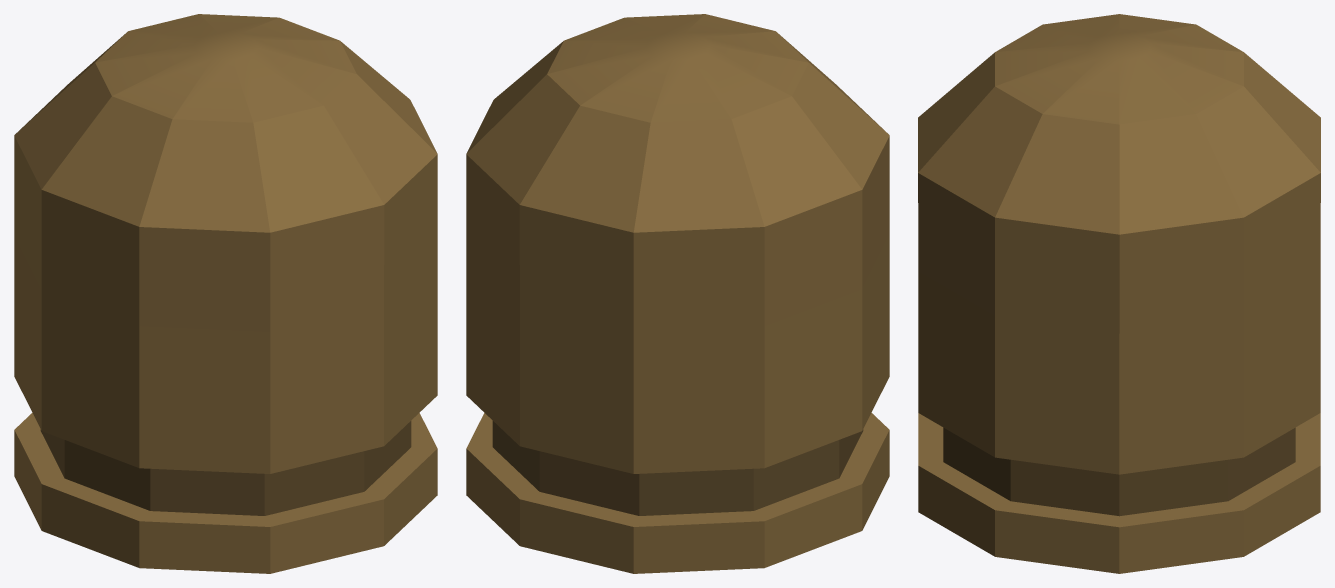
File: Bullet_Large.fbx
3 renders of one model, left to right at view 1: azimuth 30°, elevation 25°; view 2: azimuth 150°, elevation 25°; view 3: azimuth 270°, elevation 25°, orthographic.
Parts seen in each view (by area): view 1: Large1; view 2: Large1; view 3: Large1.
Part boxes in pixels (left/top/right/bottom): Large1: left=14, top=14, right=437, bottom=573; Large1: left=466, top=14, right=889, bottom=573; Large1: left=918, top=14, right=1320, bottom=573.
Size of the model in its own units: 42.65 by 48.56 by 40.56.
